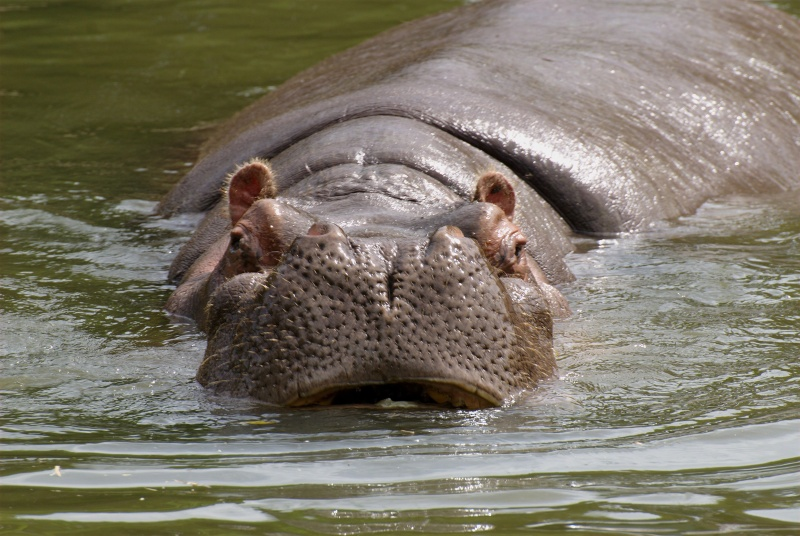hipopotamo: (142, 0, 741, 423)
